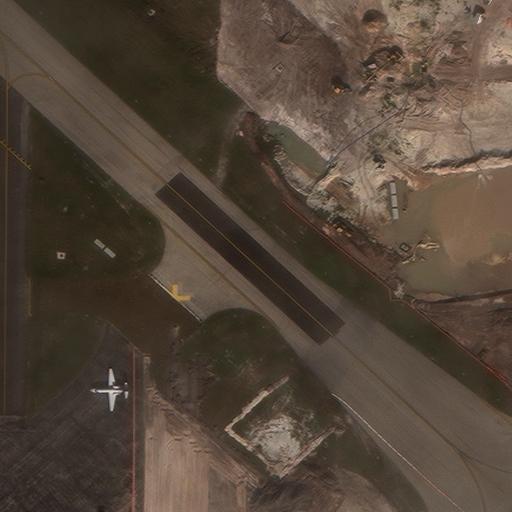Medium Civil Transport: (89, 368, 128, 412)
